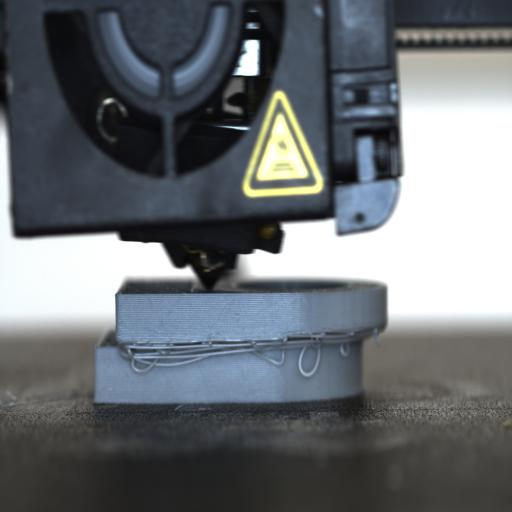layer_shift: (93, 325, 389, 356)
